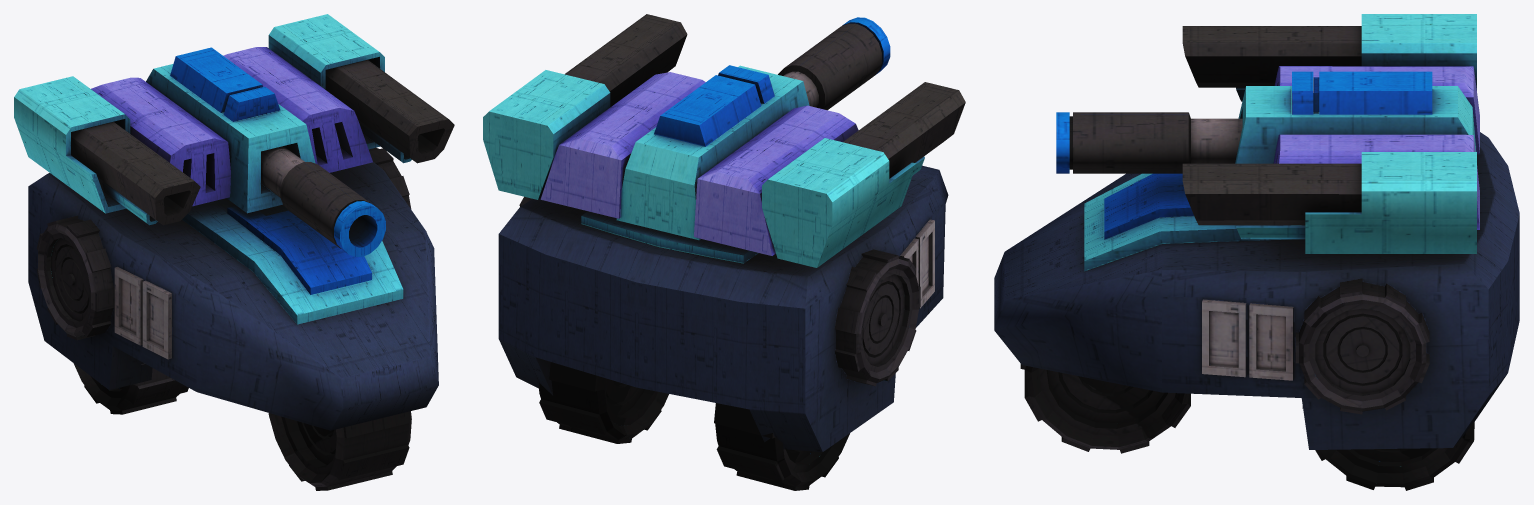
File: PlayerA7.obj
The picture shows the model from 3 angles, left to right: view 1: azimuth 30°, elevation 25°; view 2: azimuth 150°, elevation 25°; view 3: azimuth 270°, elevation 25°; orthographic projection. The views are drawn at different scales.
Visible parts, largest first — view 1: Object001, Object002, Object004, Object003; view 2: Object001, Object002, Object003; view 3: Object001, Object002, Object004, Object003.
Boxes of the visible parts, x1,y1,x2,y2 form: Object001: (28, 47, 438, 430); Object002: (14, 14, 454, 225); Object004: (268, 411, 411, 490); Object003: (73, 363, 188, 414); Object001: (498, 17, 948, 452); Object002: (483, 14, 965, 267); Object003: (539, 362, 849, 490); Object001: (994, 66, 1519, 449); Object002: (1182, 14, 1476, 253); Object004: (1020, 364, 1190, 453); Object003: (1302, 406, 1474, 490).
Size of the model in its own units: 93.13 by 88.58 by 119.
Materials: 1 (1 with a texture image).
